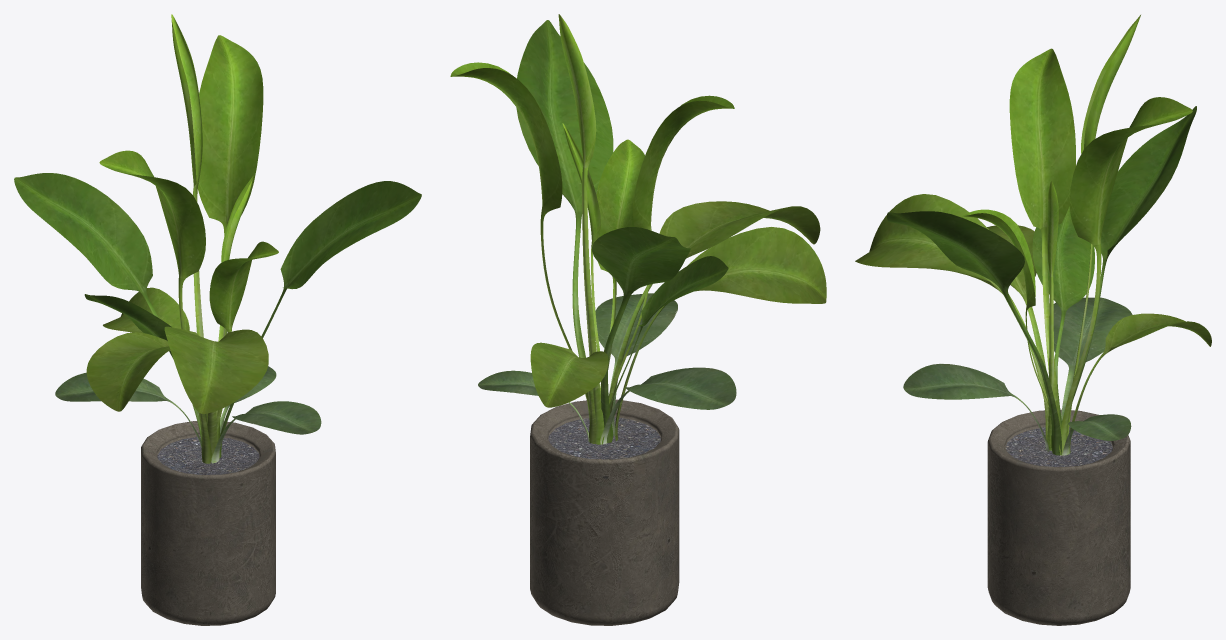
File: rhyzome_plant_COMPRESSED.glb
3 renders of one model, left to right at view 1: azimuth 30°, elevation 25°; view 2: azimuth 150°, elevation 25°; view 3: azimuth 270°, elevation 25°, orthographic. The views are drawn at different scales.
Visible parts, largest first — view 1: plant_lambert2_0, concrete_pot_lambert3_0; view 2: plant_lambert2_0, concrete_pot_lambert3_0; view 3: plant_lambert2_0, concrete_pot_lambert3_0.
Part boxes in pixels (bbox=[...]): plant_lambert2_0: bbox=[14, 14, 421, 463]; concrete_pot_lambert3_0: bbox=[141, 421, 275, 625]; plant_lambert2_0: bbox=[450, 14, 826, 444]; concrete_pot_lambert3_0: bbox=[530, 399, 679, 625]; plant_lambert2_0: bbox=[855, 15, 1211, 455]; concrete_pot_lambert3_0: bbox=[987, 409, 1130, 625].
Size of the model in its own units: 0.9757 by 1.81 by 0.9984.
Materials: 2 (2 with a texture image).
